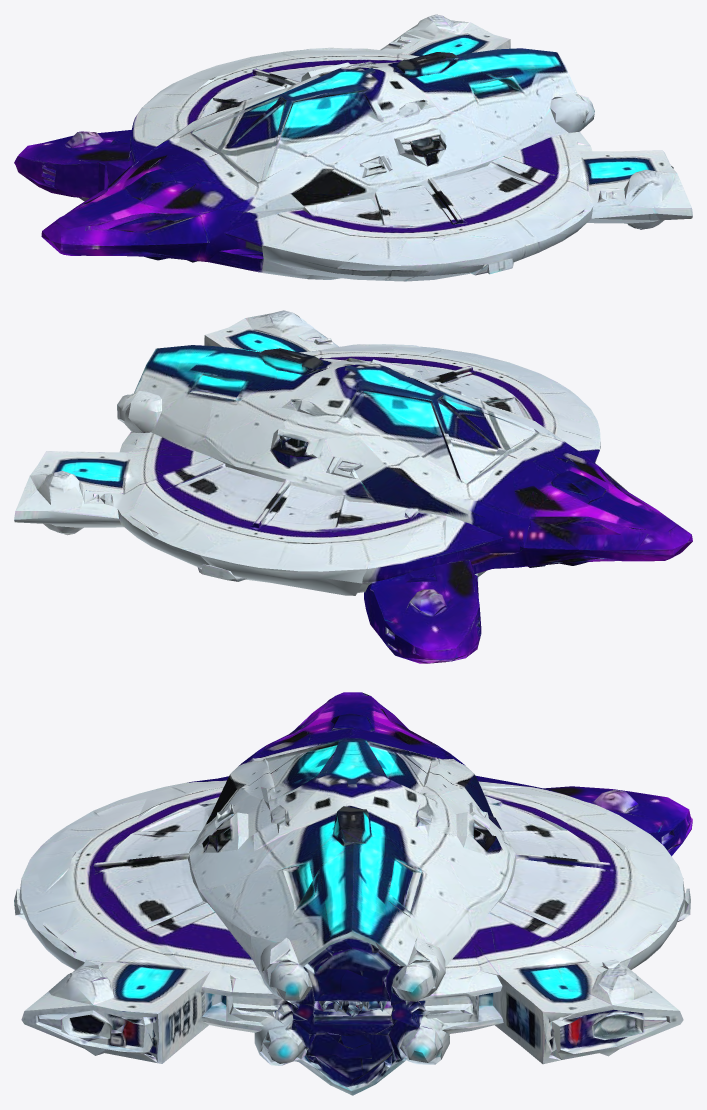
File: nation-f-carrier.glb
3 renders of one model, top to bottom at view 1: azimuth 30°, elevation 25°; view 2: azimuth 150°, elevation 25°; view 3: azimuth 270°, elevation 25°, orthographic. The views are drawn at different scales.
Size of the model in its own units: 1.9 by 0.6301 by 1.65.
1 material, 1 textured.
